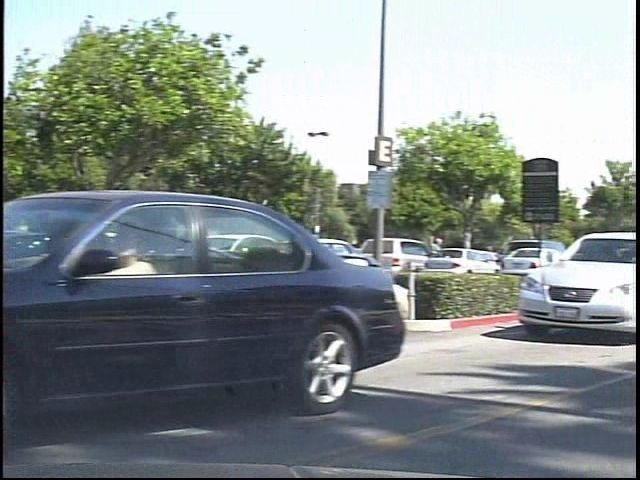person: (436, 231, 463, 284)
